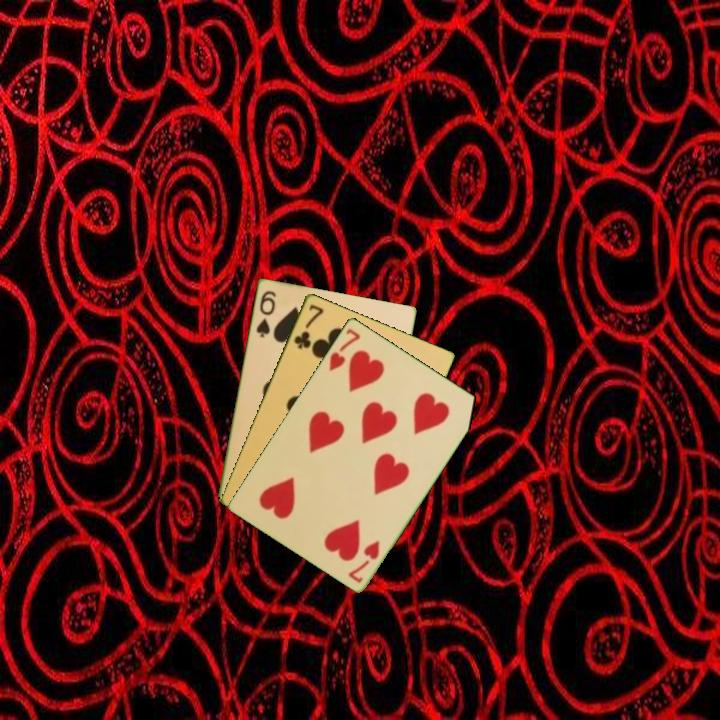6s: (252, 287, 279, 340)
7c: (290, 300, 326, 352)
7h: (325, 324, 363, 374), (345, 536, 382, 586)
